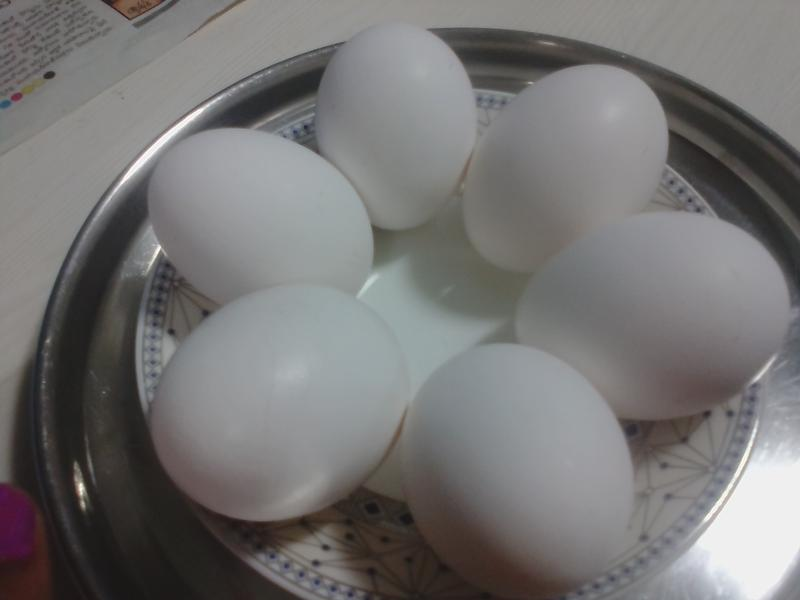egg: (146, 292, 403, 526)
